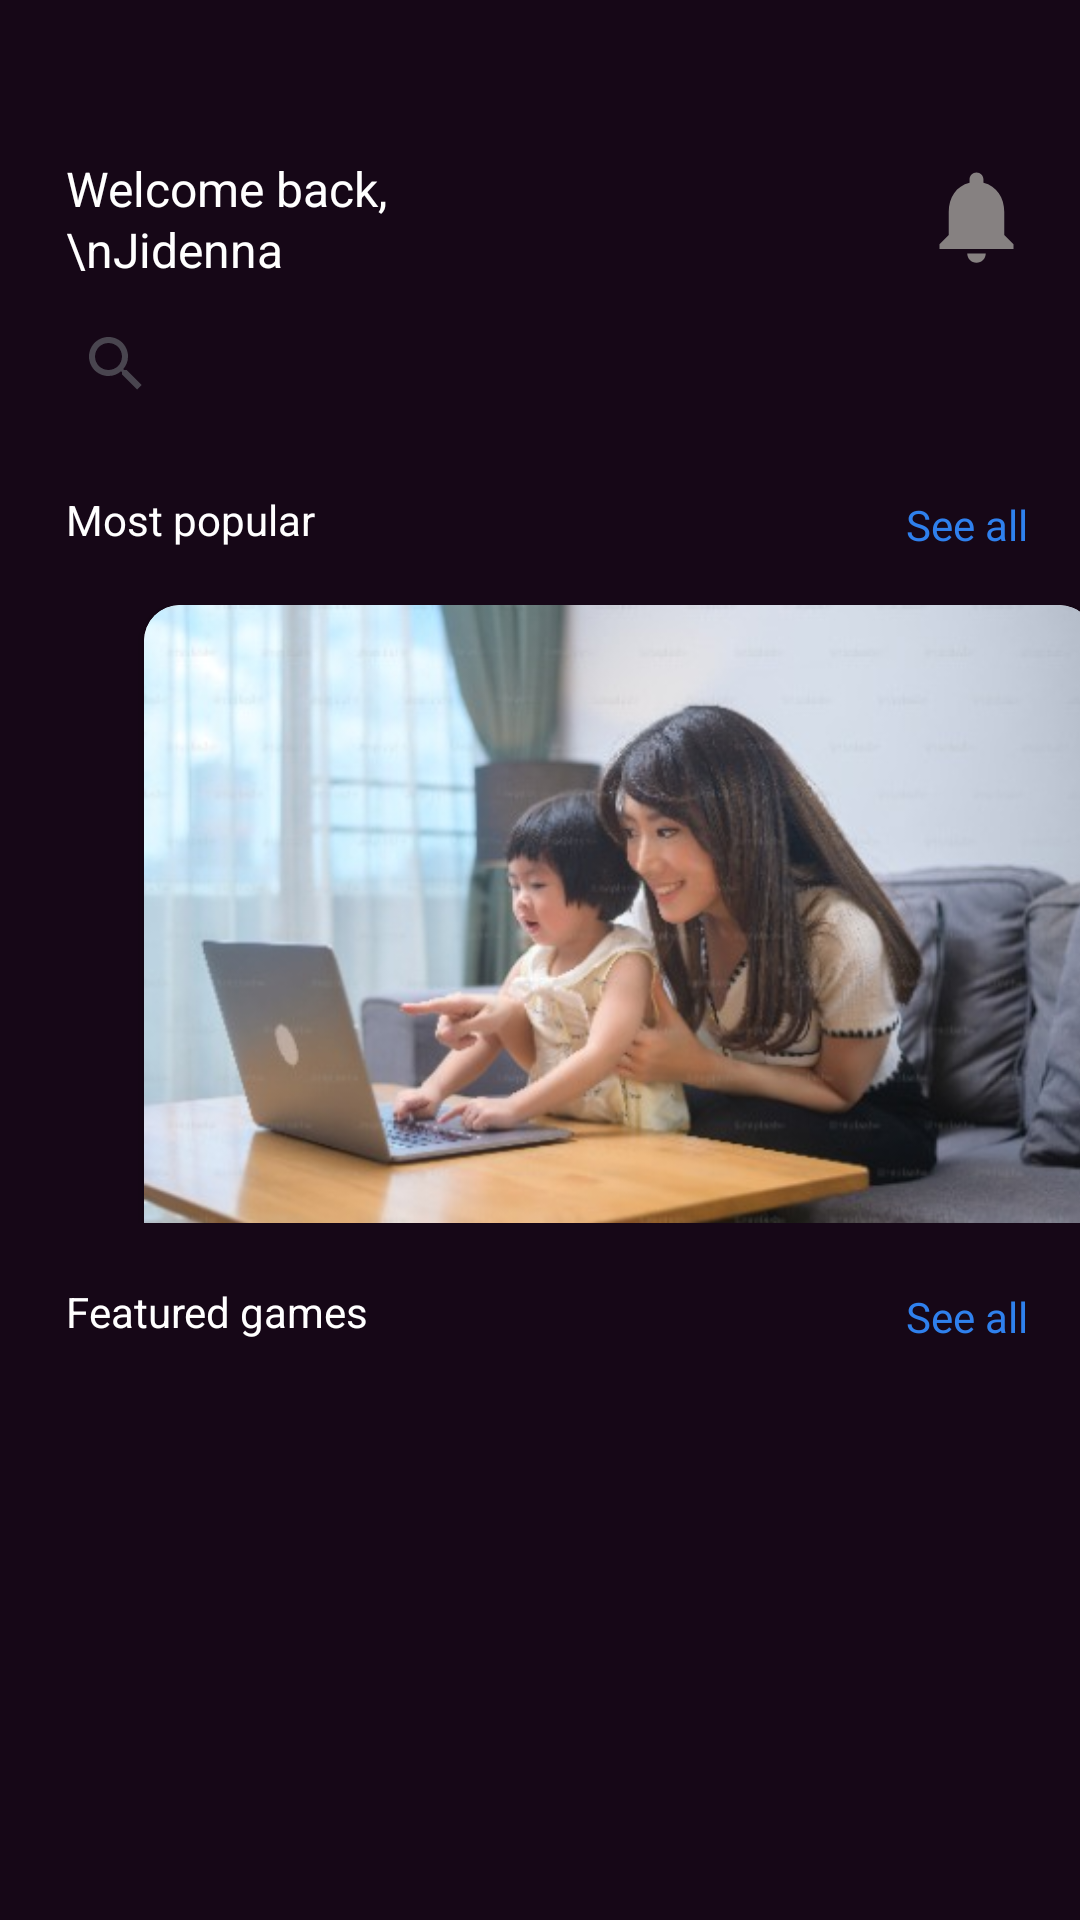

Icon bounding boxes for this 1080x1920 phone screenshot, format (left=x1, top=y1, right=x2, bottom=y2):
notification bell: (left=939, top=172, right=1014, bottom=263)
